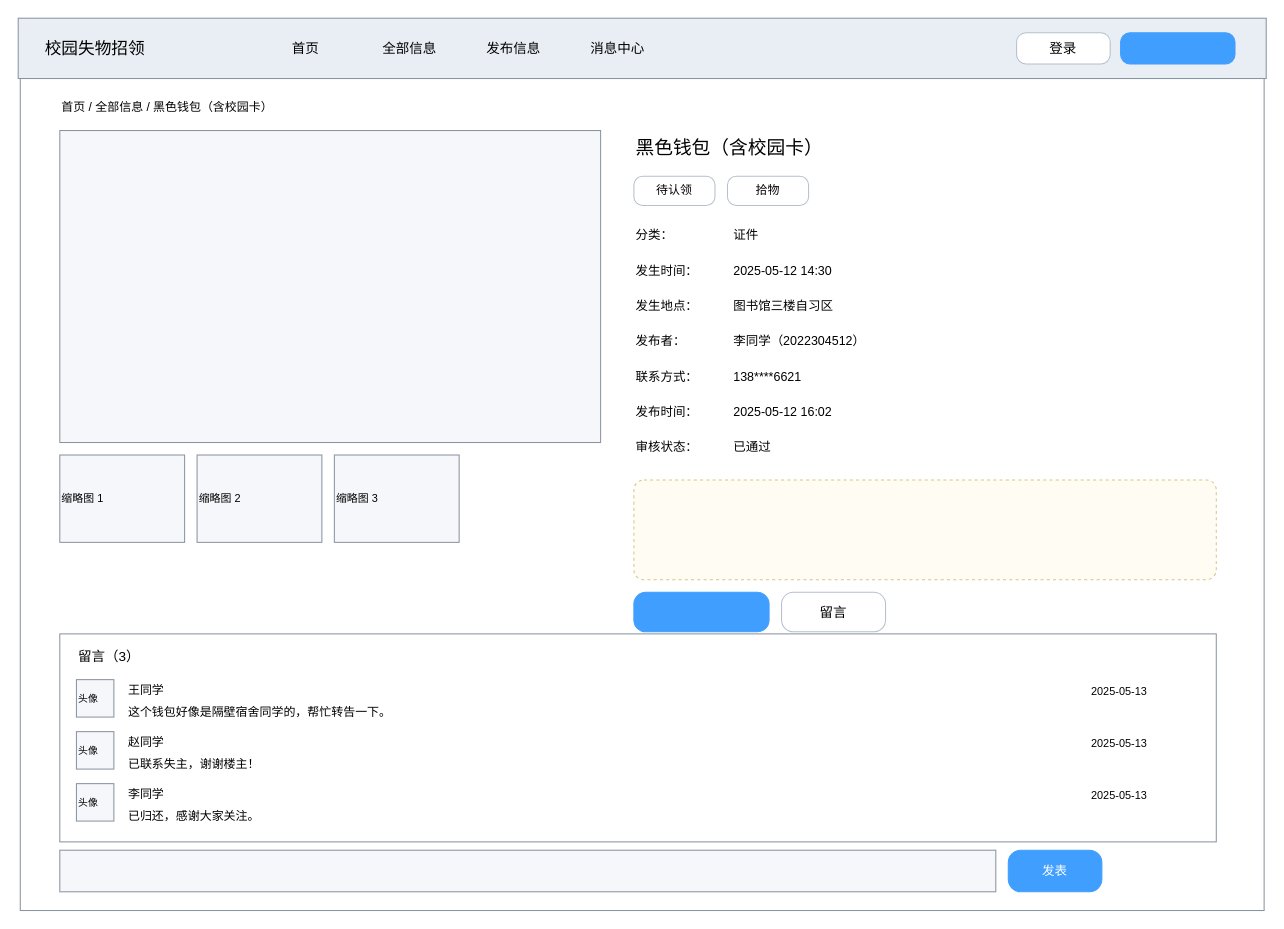
The diagram is 1284 pixels wide and 929 high, and some of its shapes have lost their labels. The centre of each missing label's shape, as x and y in pixels:
主图（点击查看大图）: the point at 330,286
写下你的留言（不超过 200 字）…: the point at 527,870
描述：图书馆三楼靠窗座位捡到黑色短款钱包，内有一卡通、少量现金，已交至图书馆服务台，请失主携带学生证认领。: the point at 924,529
注册: the point at 1177,48
申请认领: the point at 701,611
